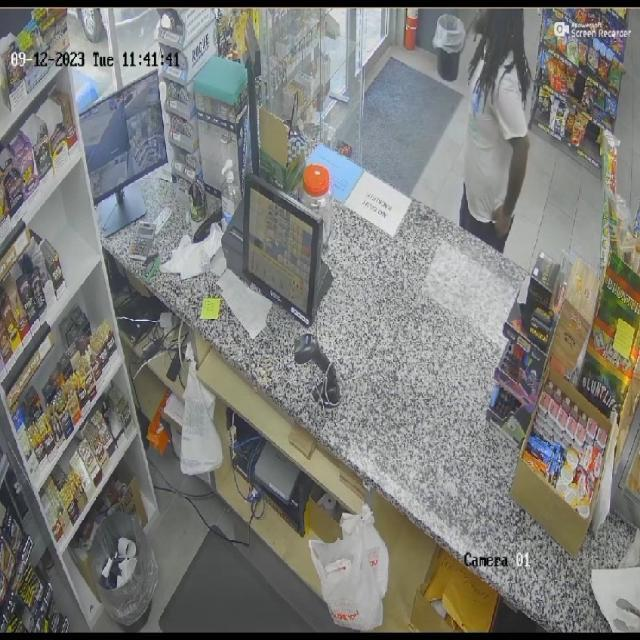normal: (414, 10, 557, 273)
